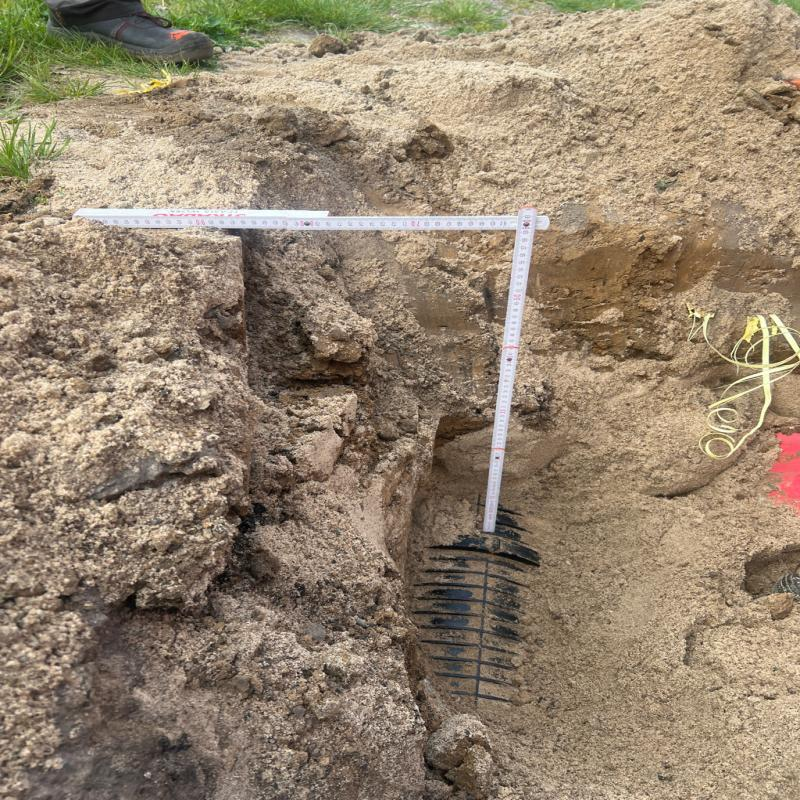NT-Muffen: (411, 503, 549, 719)
